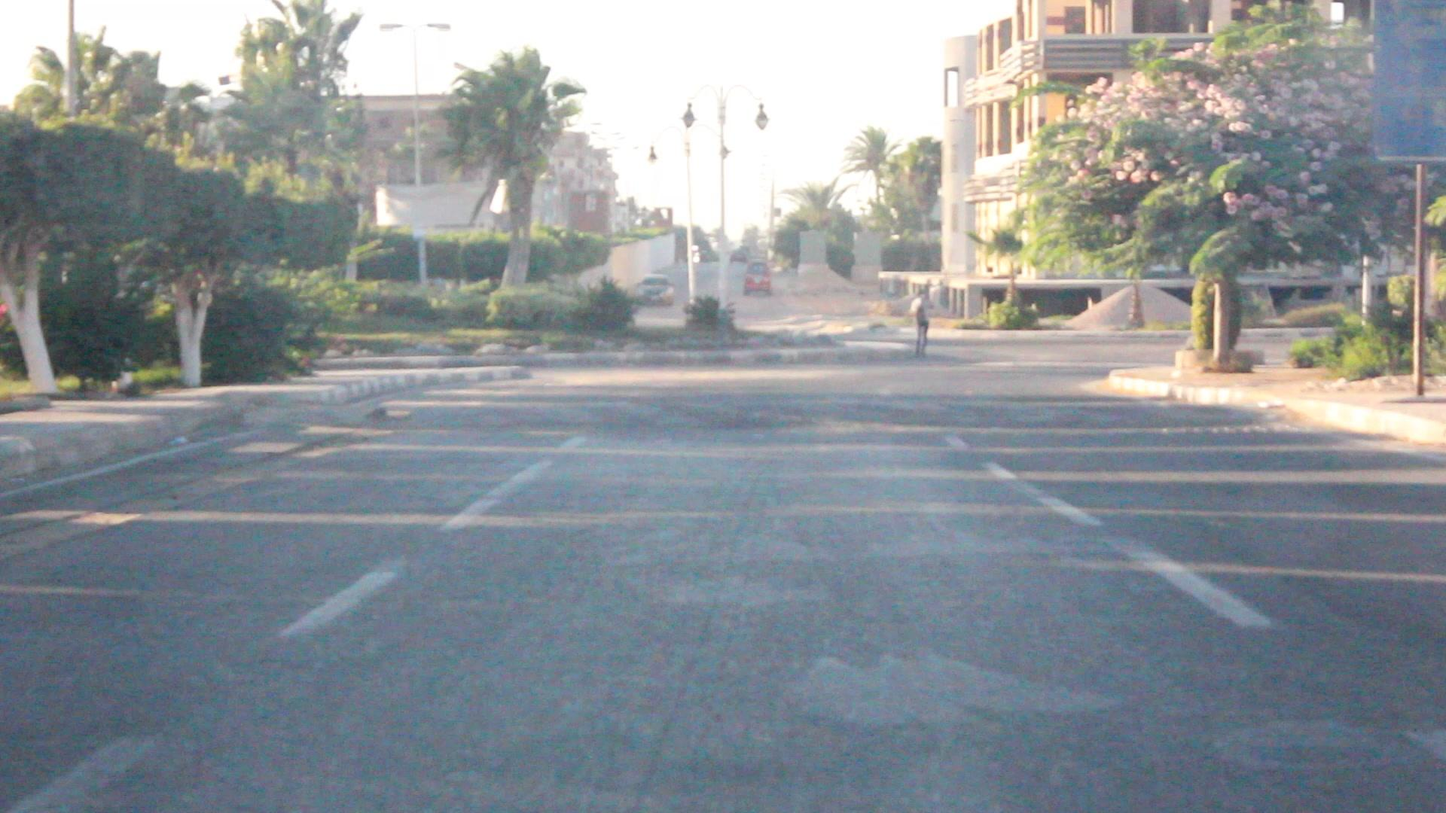Bump: (392, 410, 1320, 438)
